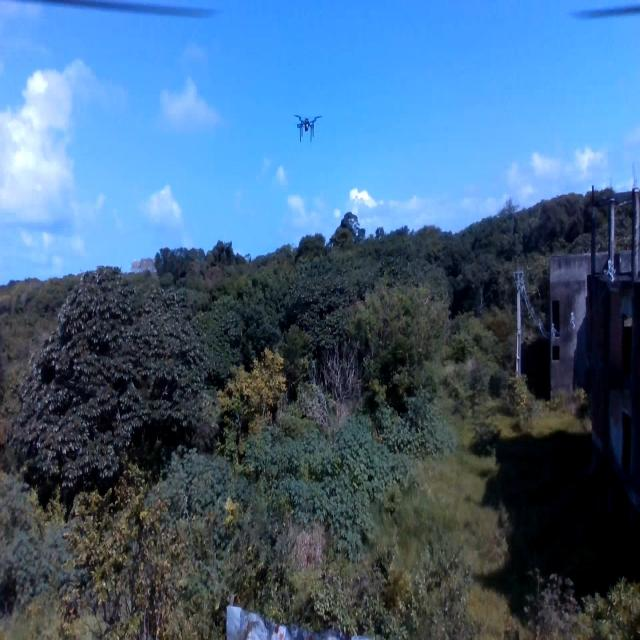-uav-: (288, 107, 327, 148)
